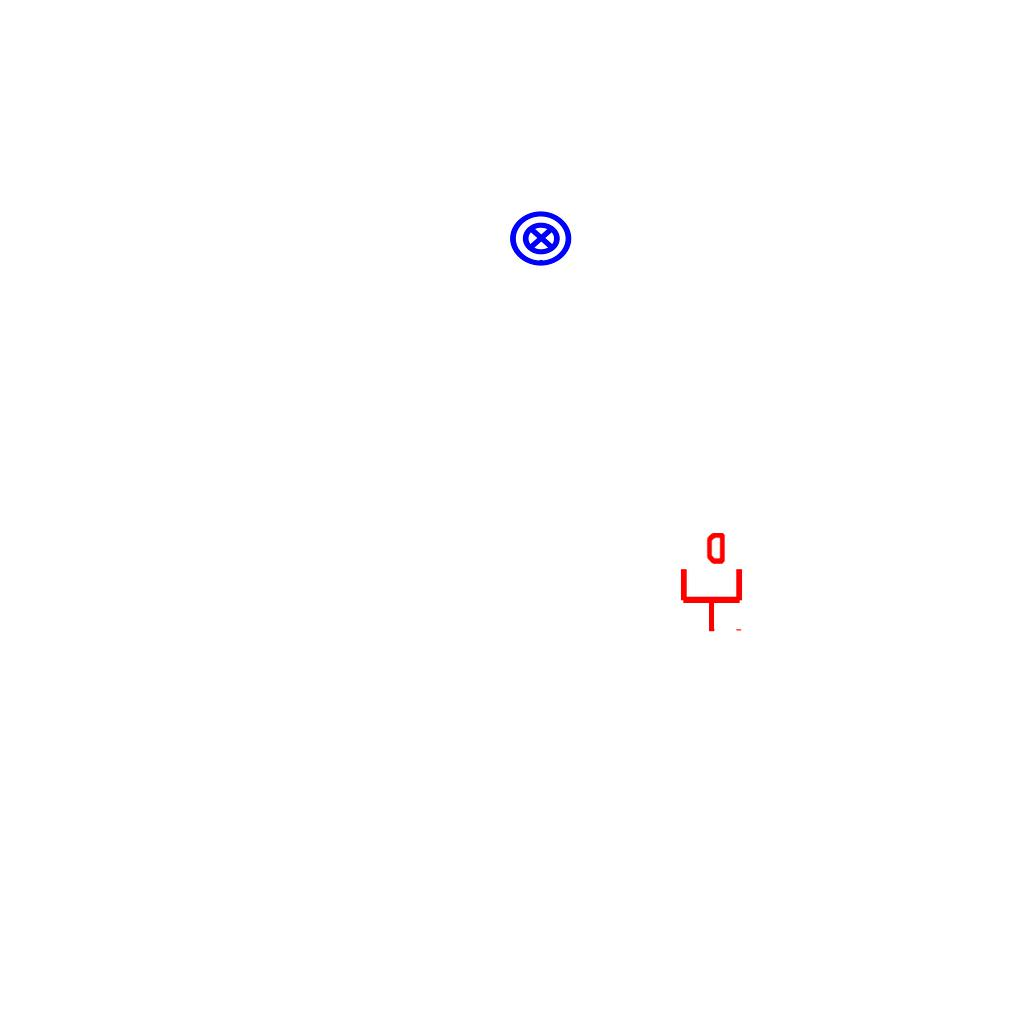Datenanschluss_einfach: (677, 533, 746, 633)
Taster_beleuchtet: (508, 205, 574, 271)
